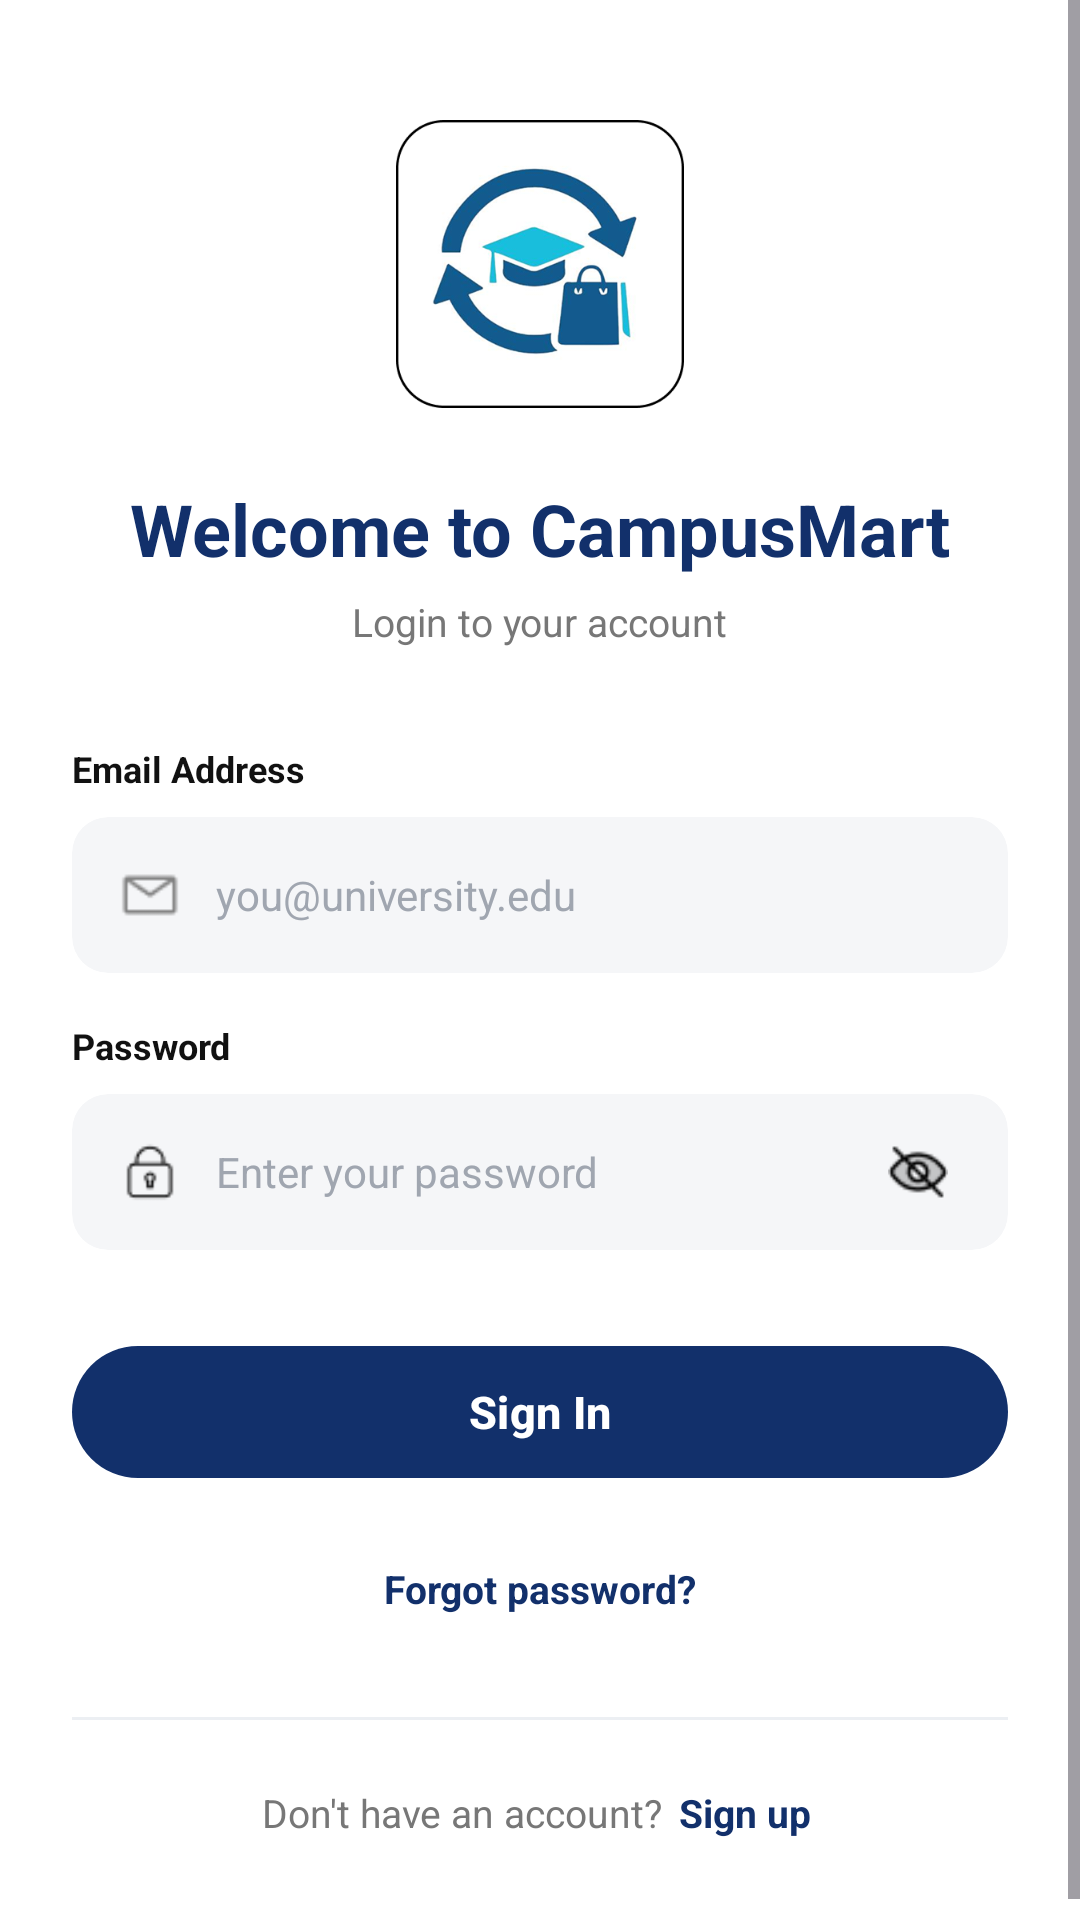

Icons on this 1080x1920 Android screen, each with the point to tap as point (x, y):
Show password: point (918, 1172)
